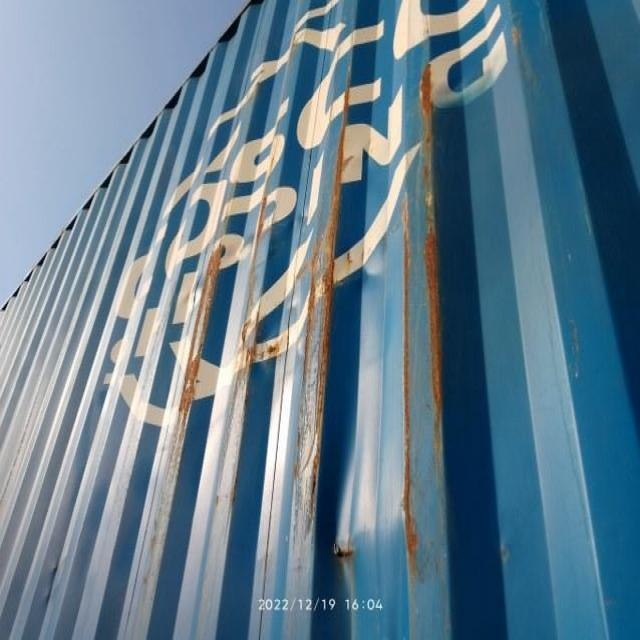rust: (396, 64, 460, 559), (294, 240, 331, 491)
